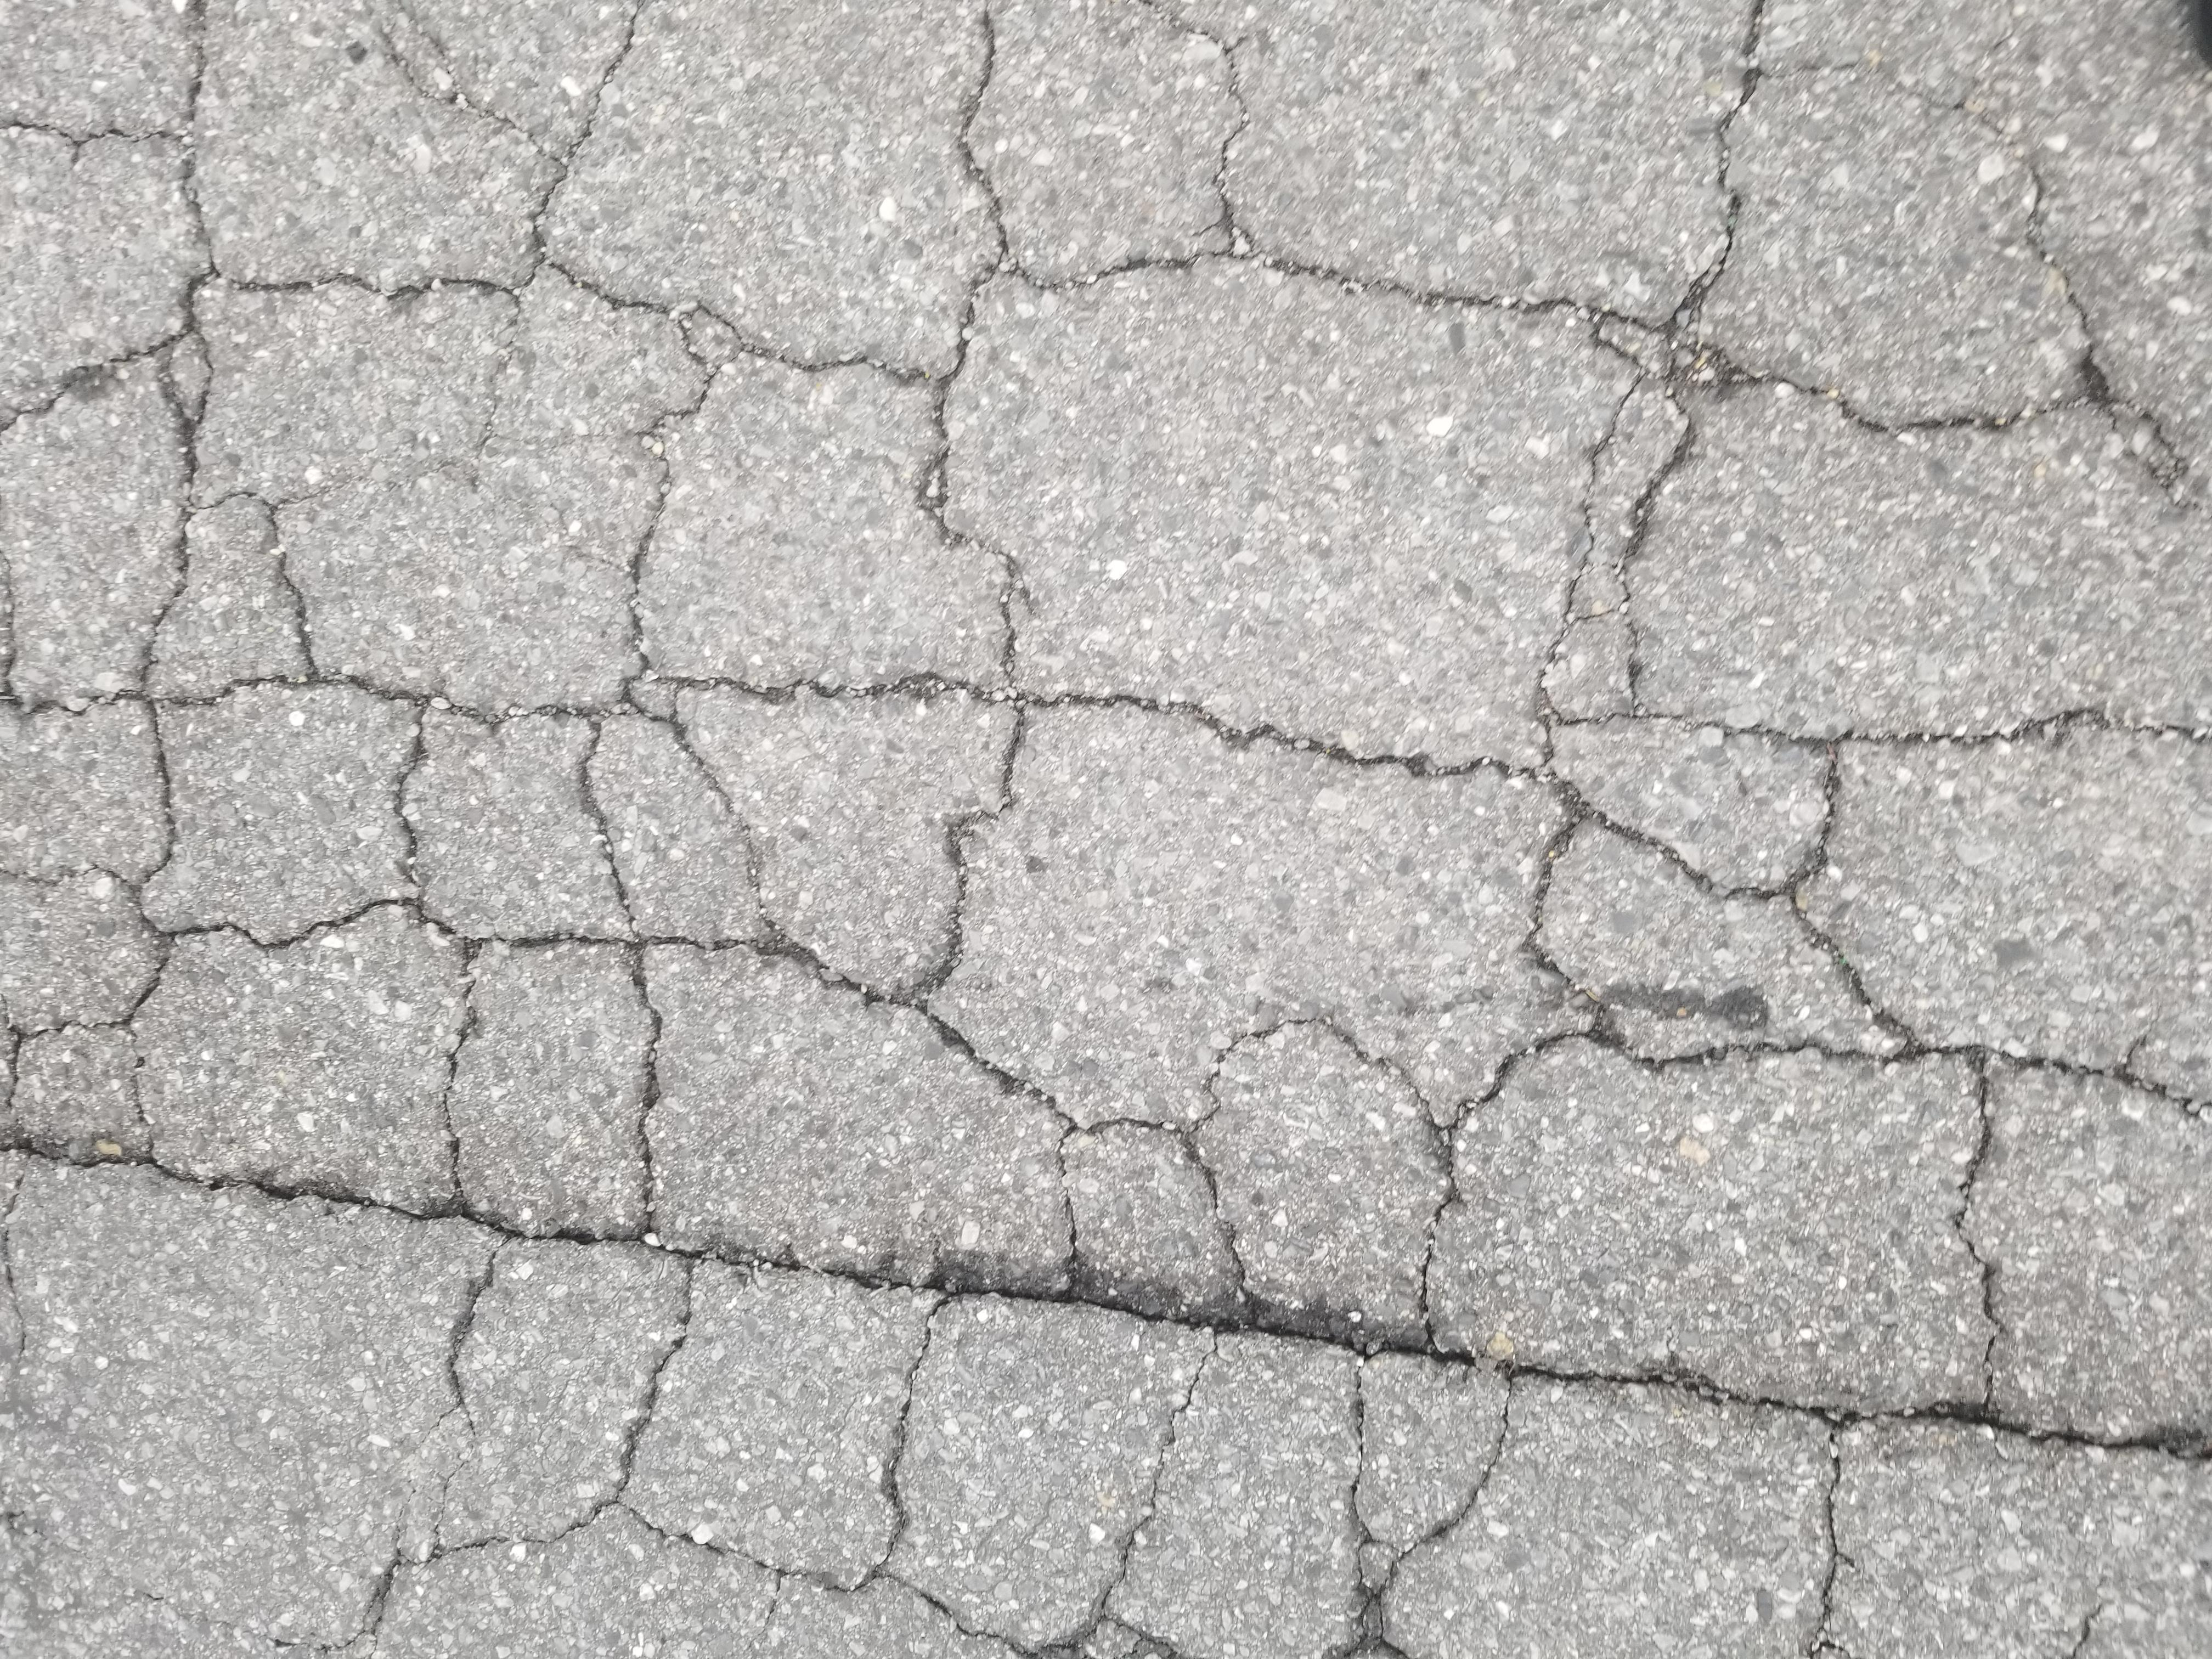alligator-crack: (30, 0, 2167, 1659)
